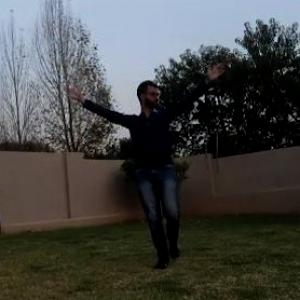takeoff: (69, 63, 228, 262)
